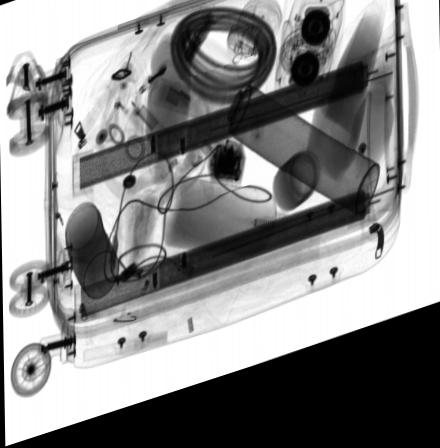Sprayer: (210, 88, 378, 236)
